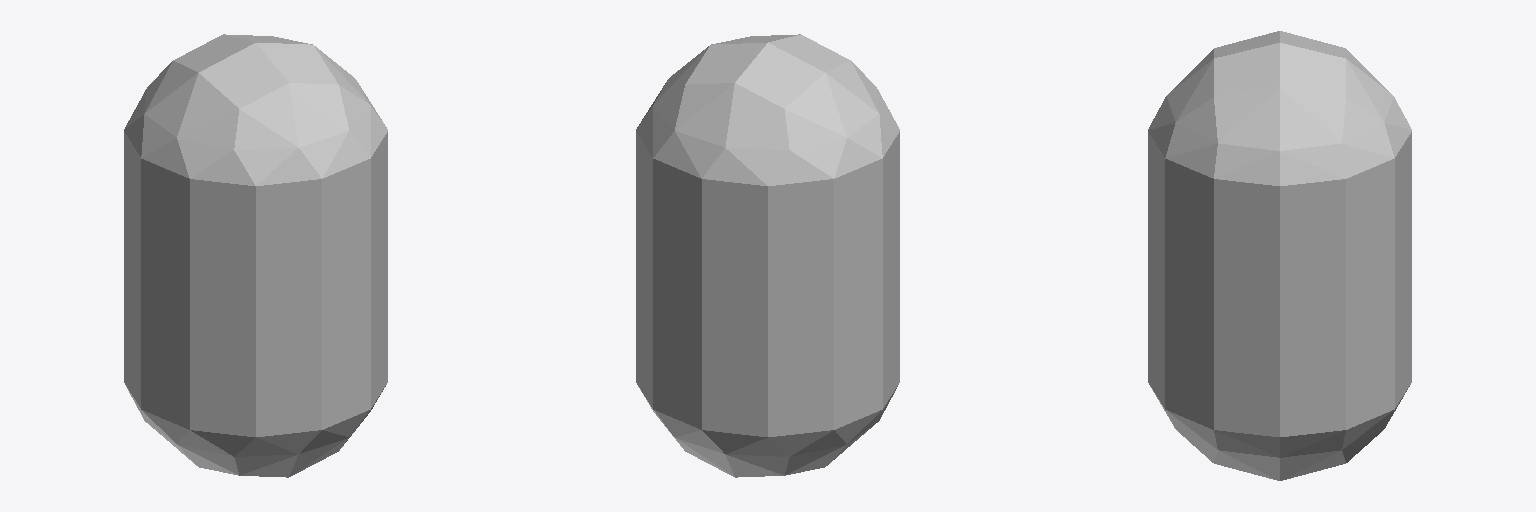
Rendered from 80. Плунжер стопорный штоков.obj.
3 renders of one model, left to right at view 1: azimuth 30°, elevation 25°; view 2: azimuth 150°, elevation 25°; view 3: azimuth 270°, elevation 25°, orthographic.
Parts seen in each view (by area): view 1: Твердое тело1; view 2: Твердое тело1; view 3: Твердое тело1.
Boxes of the visible parts, box(x1,y1,x2,y2) form: Твердое тело1: box(124, 34, 387, 477); Твердое тело1: box(636, 34, 899, 477); Твердое тело1: box(1148, 31, 1411, 480).
Bounding box in the file's own units: 9 × 16 × 9.